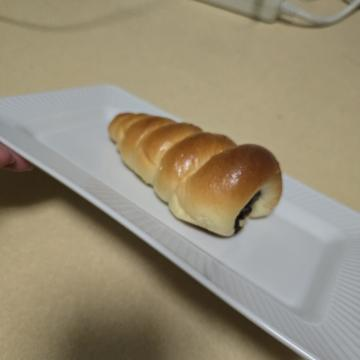cream horn: (96, 67, 255, 262)
